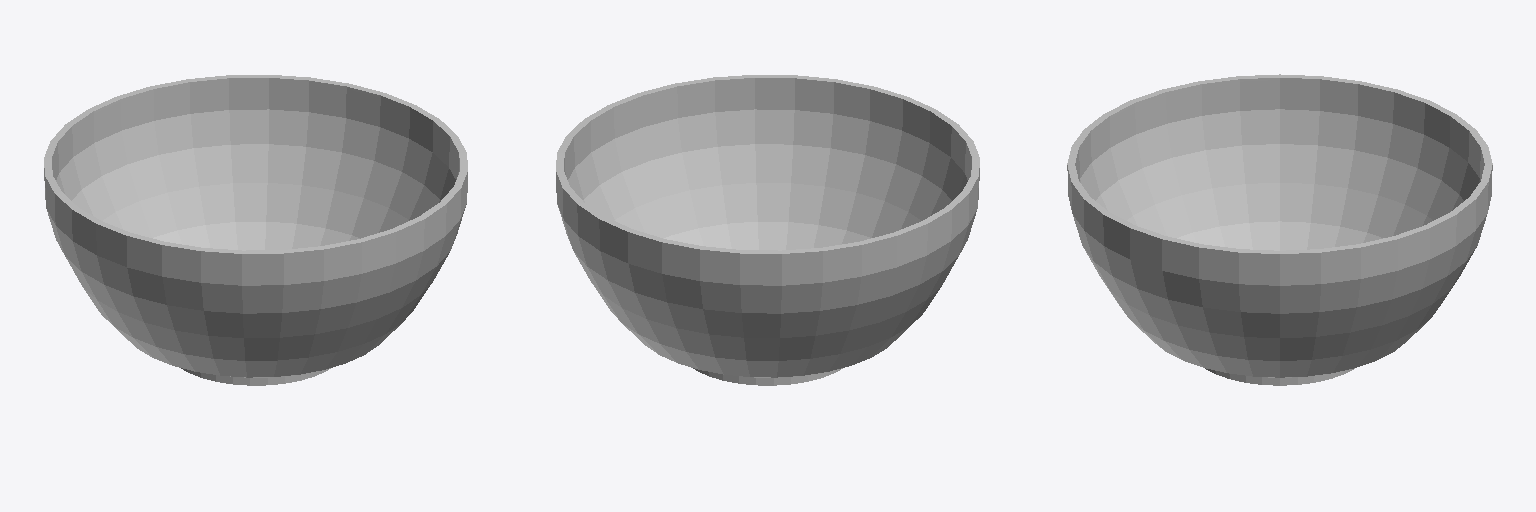
Rendered from miska.obj.
3 renders of one model, left to right at view 1: azimuth 30°, elevation 25°; view 2: azimuth 150°, elevation 25°; view 3: azimuth 270°, elevation 25°, orthographic.
Parts seen in each view (by area): view 1: Cylinder; view 2: Cylinder; view 3: Cylinder.
Part boxes in pixels (x1,y1,x2,y2): Cylinder: (44, 75, 467, 385); Cylinder: (556, 75, 979, 385); Cylinder: (1067, 74, 1492, 385).
Bounding box in the file's own units: 2 × 0.9528 × 2.